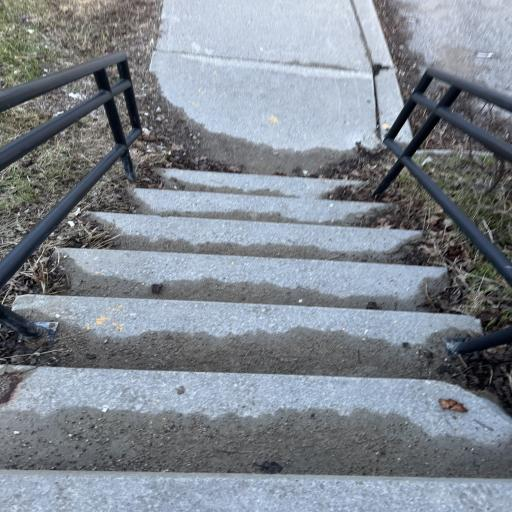Stairs: (0, 169, 512, 512)
